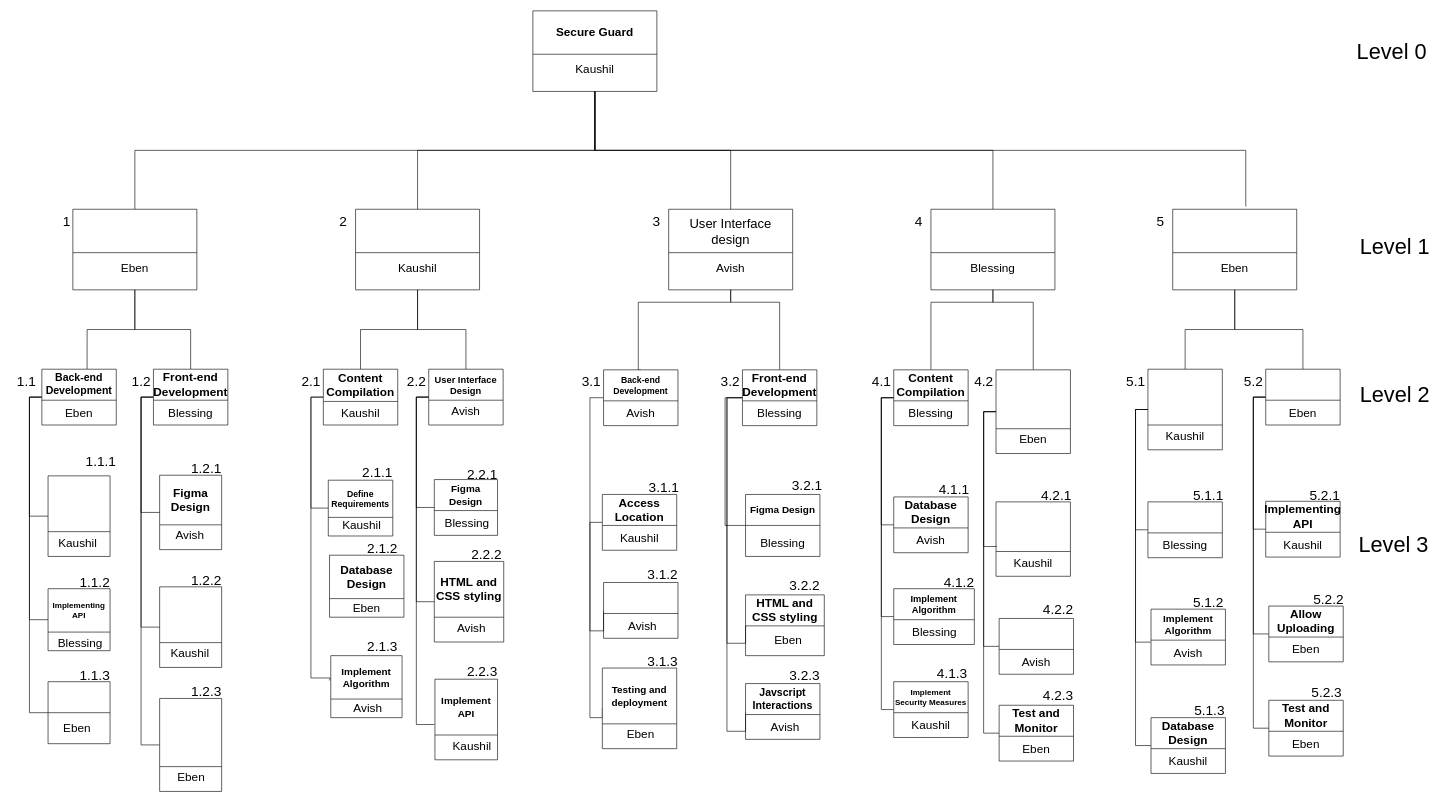
The diagram is 1448 pixels wide and 802 high, and some of its shapes have lost their labels. Each missing label, with the box of its shape:
Alert functionality to nearby residents: (603, 582, 678, 638)
Content Creation: (1265, 369, 1340, 425)
Design User Interface: (1147, 501, 1222, 558)
Development build: (930, 209, 1055, 290)
Development build test results: (1172, 209, 1297, 290)
Encryption: (47, 681, 110, 744)
HTML and CCS styling: (159, 586, 222, 667)
Incident Location: (995, 501, 1070, 576)
Java script Interactions: (159, 698, 222, 791)
Notification Development: (1147, 369, 1222, 450)
Notifying Local Authorities: (999, 618, 1074, 674)
Project plan report: (72, 209, 197, 290)
Resolve Incidents: (995, 369, 1070, 454)
Risk identification and mitigation report: (355, 209, 480, 290)
User Login and Registration Functionality: (47, 475, 110, 556)
